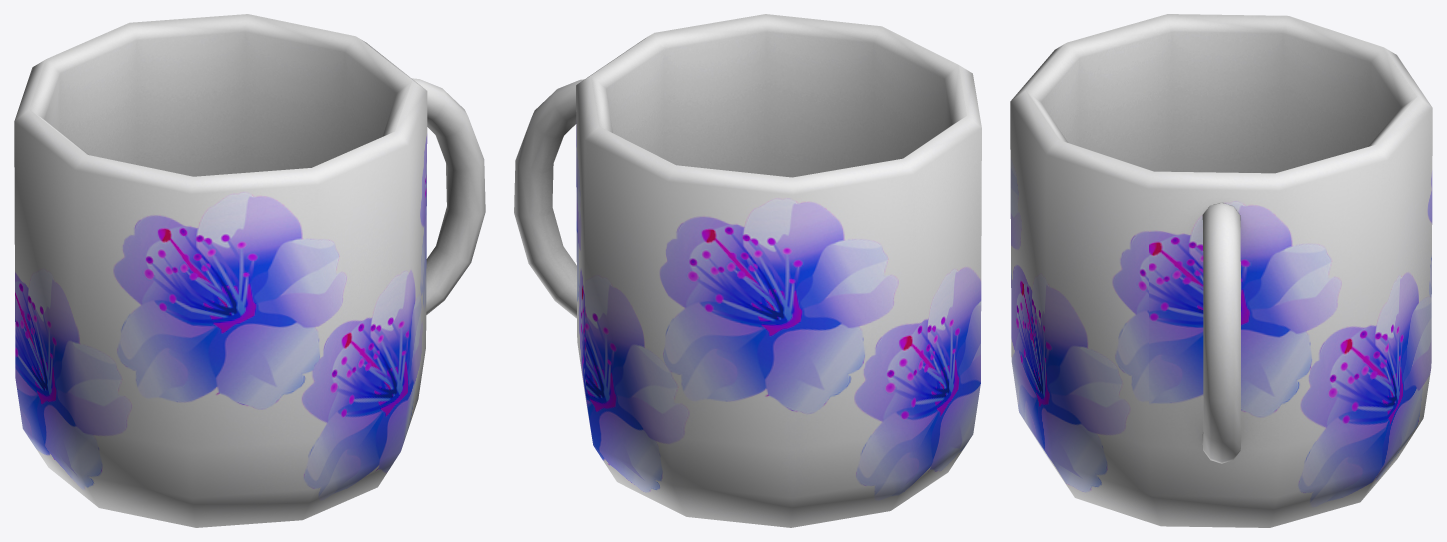
File: frl_apartment_cup_02.glb
3 views of the same model, side by side, from view 1: azimuth 30°, elevation 25°; view 2: azimuth 150°, elevation 25°; view 3: azimuth 270°, elevation 25° (orthographic).
Visible parts, largest first — view 1: frl_apartment_cup_02; view 2: frl_apartment_cup_02; view 3: frl_apartment_cup_02.
Part boxes in pixels (<box>): frl_apartment_cup_02: <box>14,14,485,527</box>; frl_apartment_cup_02: <box>514,14,981,527</box>; frl_apartment_cup_02: <box>1010,14,1432,527</box>.
Size of the model in its own units: 0.1293 by 0.1015 by 0.1072.
1 material, 1 textured.
